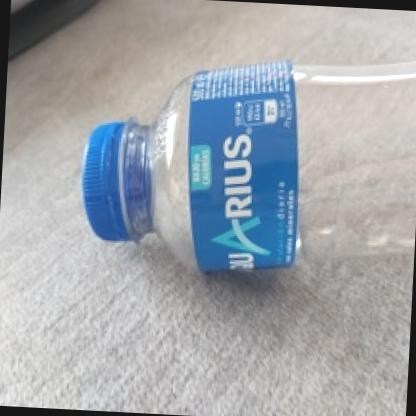plastic_bottles: (76, 65, 416, 280)
